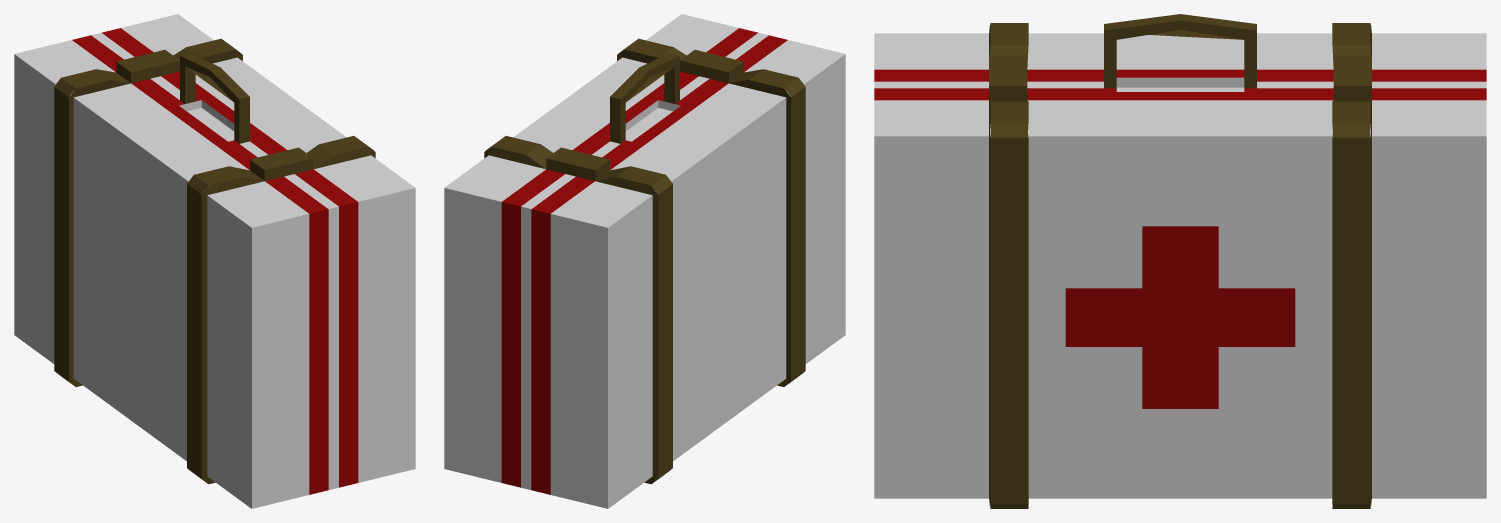
The model's file is health_big.fbx.
3 renders of one model, left to right at view 1: azimuth 30°, elevation 25°; view 2: azimuth 150°, elevation 25°; view 3: azimuth 270°, elevation 25°, orthographic. The views are drawn at different scales.
Visible parts, largest first — view 1: pCube3; view 2: pCube3; view 3: pCube3.
Part boxes in pixels (bbox=[...]): pCube3: bbox=[14, 14, 415, 508]; pCube3: bbox=[444, 14, 845, 508]; pCube3: bbox=[874, 14, 1486, 508].
Size of the model in its own units: 2.9 by 5.44 by 6.84.
